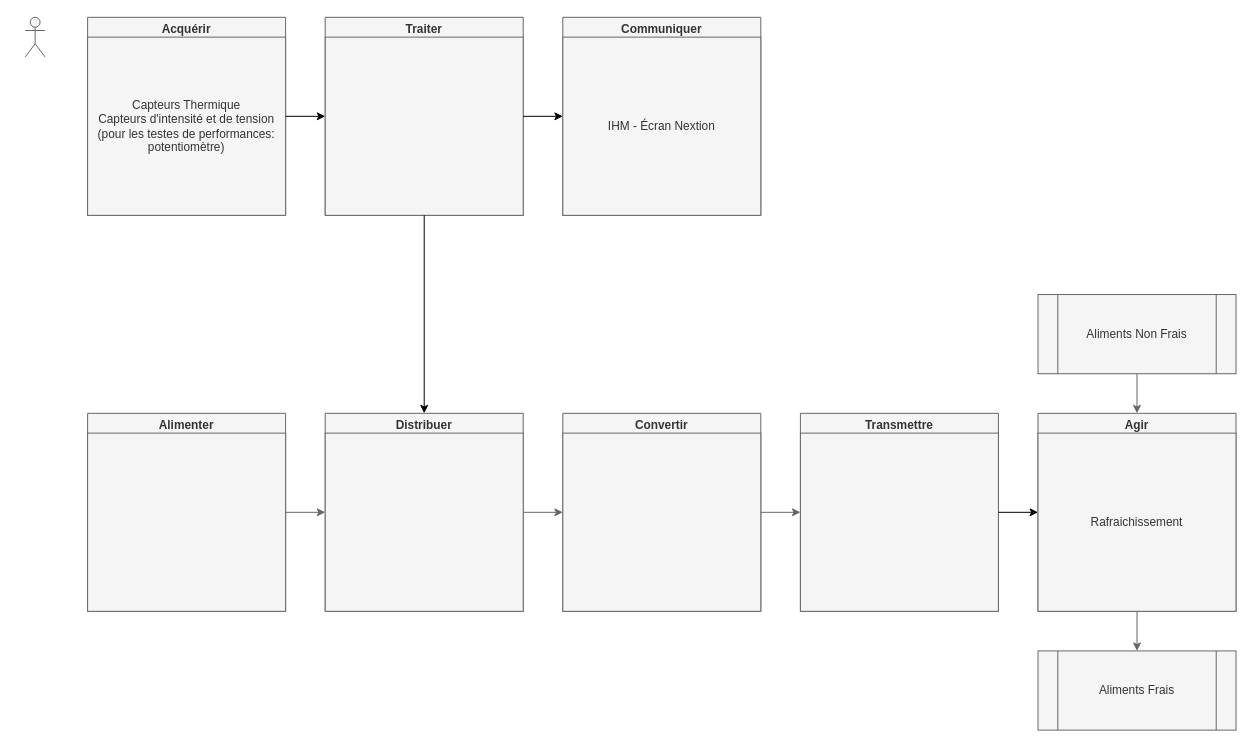
This 1253x747 diagram has some shape labels left out. Each missing label, with the centre of its shape:
"Air" goes at (898,521).
"Arduino UNO" goes at (423,125).
"Batterie Rechargeable 9 à 24V" goes at (186,521).
"Variateur de tension." goes at (423,521).
"Ventilateur" goes at (661,521).
"Équipe" goes at (34,36).
